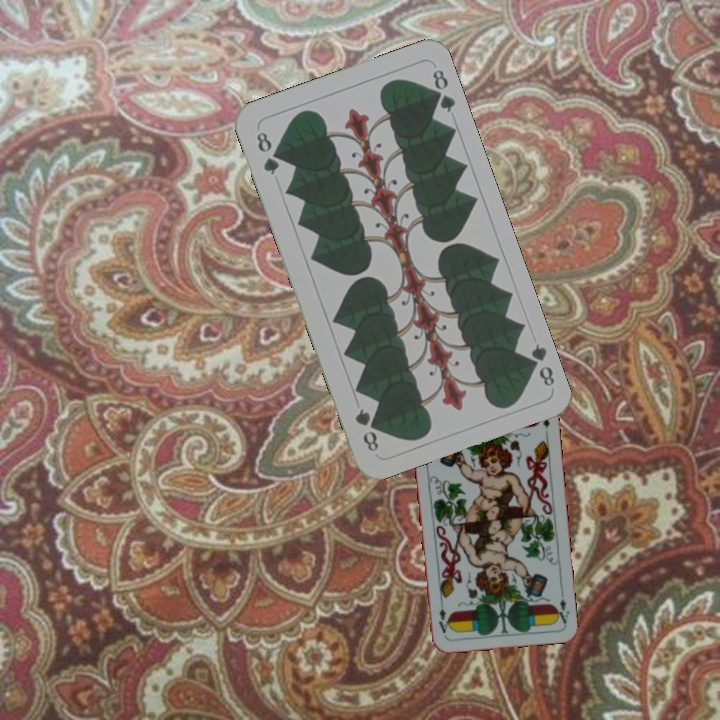EA: (552, 586, 572, 626)
G8: (521, 339, 558, 389), (252, 127, 282, 178)
